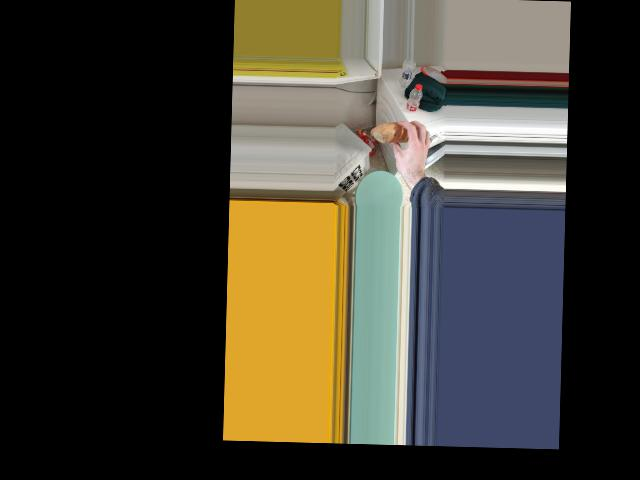sweet_potato: (379, 121, 410, 143)
